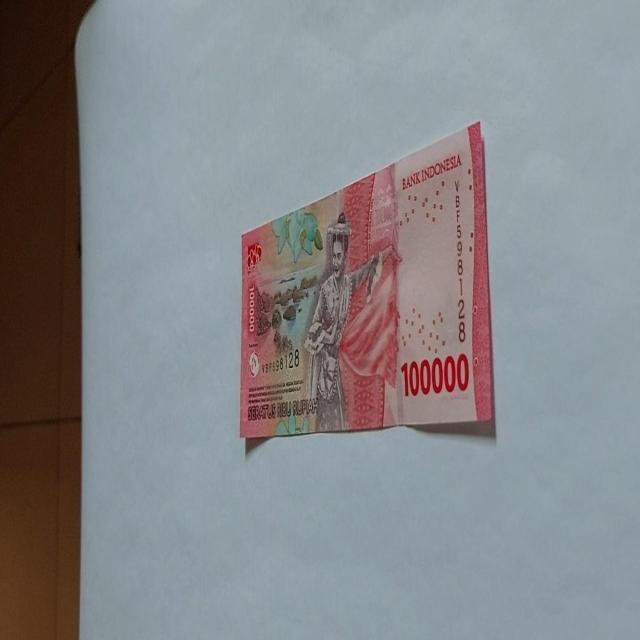Kertas: (400, 351, 470, 398)
